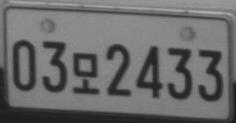0: (11, 39, 36, 90)
2: (105, 43, 132, 96)
3: (197, 48, 224, 101), (167, 47, 193, 99), (42, 40, 66, 92)
4: (135, 45, 163, 98)
모: (72, 51, 99, 94)
